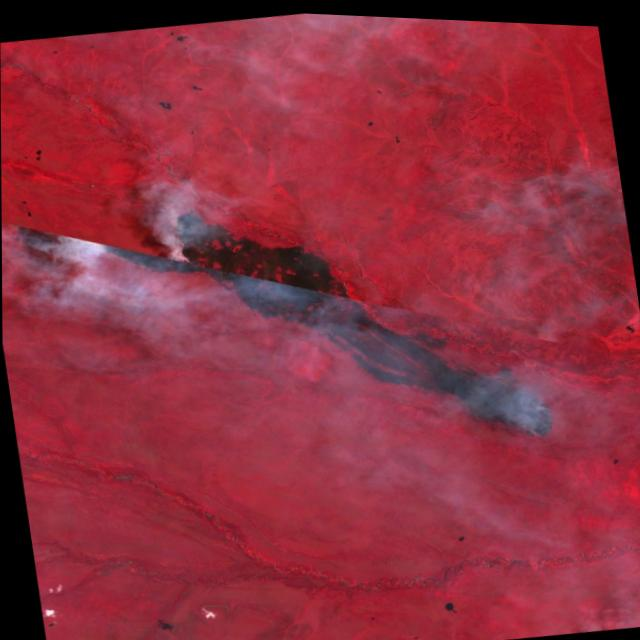fire: (93, 198, 212, 275), (520, 386, 561, 440)
